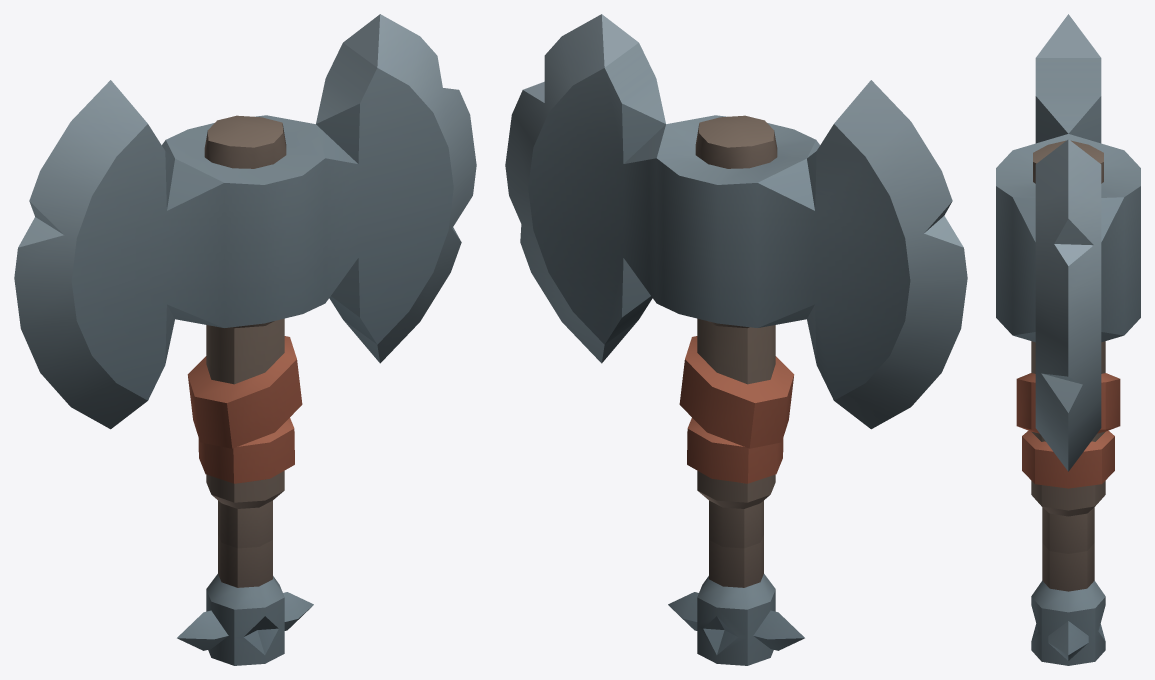
Rendered from Skeleton_Axe.glb.
3 views of the same model, side by side, from view 1: azimuth 30°, elevation 25°; view 2: azimuth 150°, elevation 25°; view 3: azimuth 270°, elevation 25° (orthographic). The views are drawn at different scales.
Parts seen in each view (by area): view 1: Skeleton_Axe; view 2: Skeleton_Axe; view 3: Skeleton_Axe.
Part boxes in pixels (box(x1,y1,x2,y2)): Skeleton_Axe: box(14, 14, 476, 665); Skeleton_Axe: box(505, 14, 967, 665); Skeleton_Axe: box(996, 14, 1140, 665).
Bounding box in the file's own units: 0.9885 × 1.25 × 0.2818.
1 material, 1 textured.
